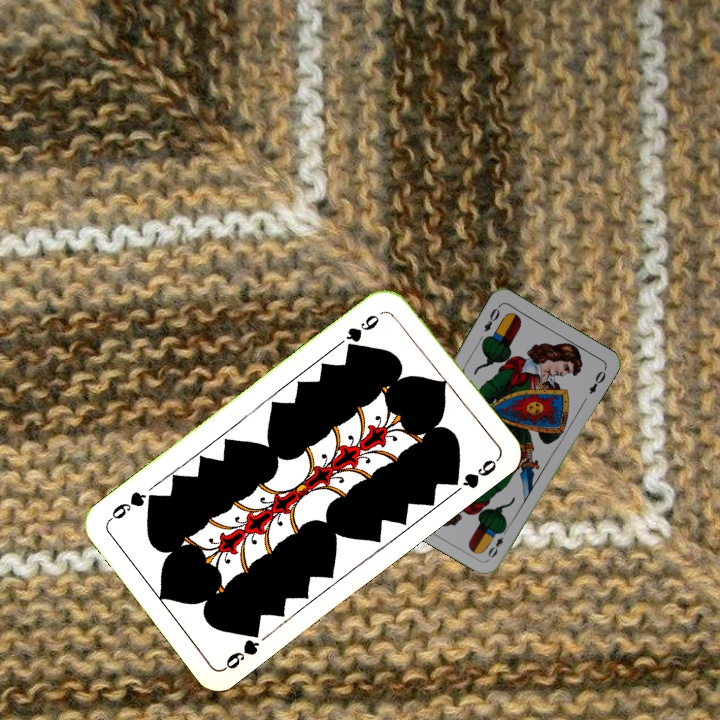EO: (484, 524, 511, 561), (480, 301, 503, 335)
G9: (220, 623, 263, 673), (341, 310, 382, 353)
